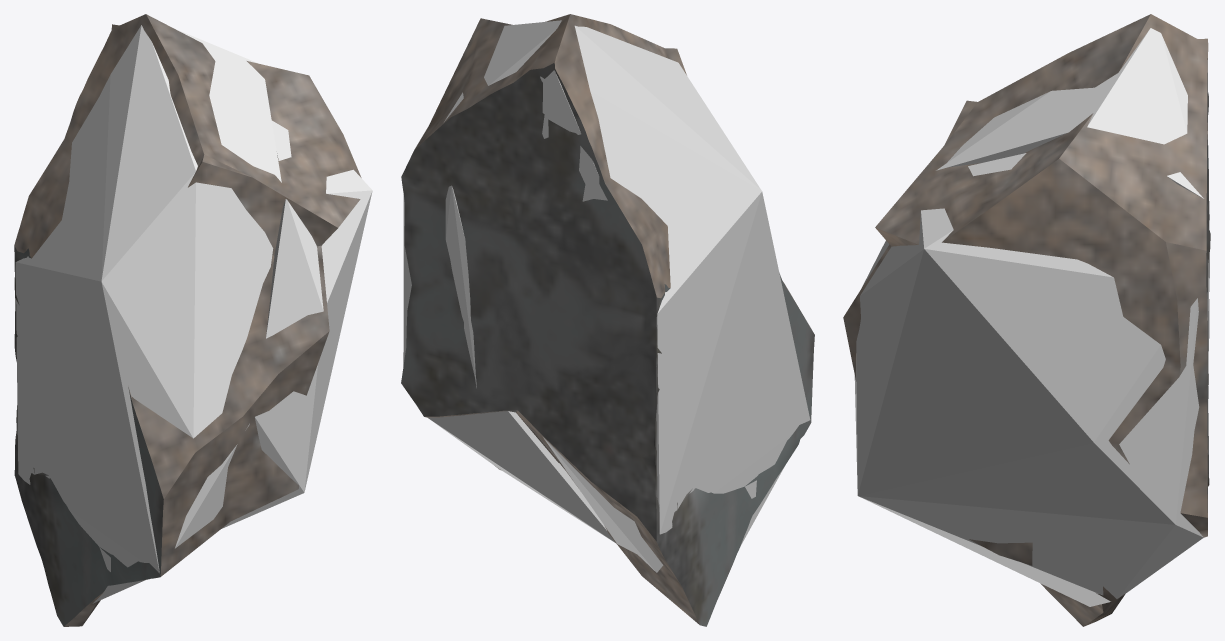
Rendered from SM_Rock_16.fbx.
The picture shows the model from 3 angles, left to right: view 1: azimuth 30°, elevation 25°; view 2: azimuth 150°, elevation 25°; view 3: azimuth 270°, elevation 25°; orthographic projection. The views are drawn at different scales.
Parts seen in each view (by area): view 1: SM_Rock_16_ConvexHulls, SM_Rock_16_LOD0; view 2: SM_Rock_16_LOD0, SM_Rock_16_ConvexHulls; view 3: SM_Rock_16_ConvexHulls, SM_Rock_16_LOD0.
Part boxes in pixels (left/top/right/bottom): SM_Rock_16_ConvexHulls: left=15, top=25, right=372, bottom=603; SM_Rock_16_LOD0: left=14, top=14, right=361, bottom=626; SM_Rock_16_LOD0: left=401, top=14, right=814, bottom=626; SM_Rock_16_ConvexHulls: left=403, top=20, right=810, bottom=572; SM_Rock_16_ConvexHulls: left=854, top=28, right=1208, bottom=606; SM_Rock_16_LOD0: left=843, top=14, right=1210, bottom=626.
Size of the model in its own units: 33.5 by 34.79 by 69.74.
